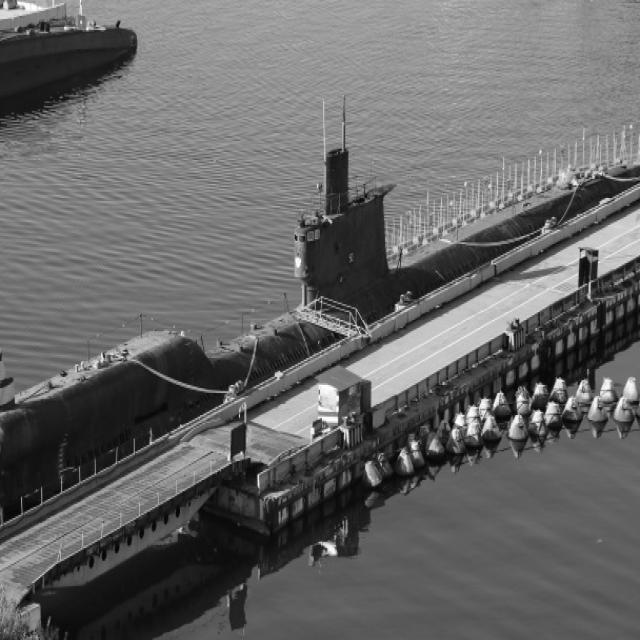submarine: (1, 152, 640, 529)
